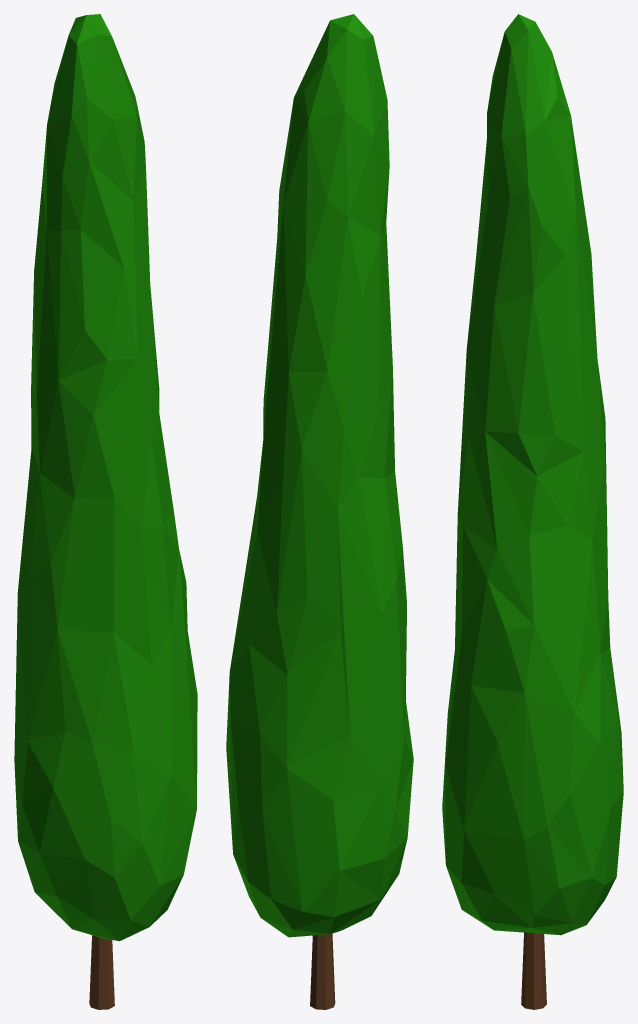
File: cypressTreeE.fbx
3 renders of one model, left to right at view 1: azimuth 30°, elevation 25°; view 2: azimuth 150°, elevation 25°; view 3: azimuth 270°, elevation 25°, orthographic. The views are drawn at different scales.
Parts seen in each view (by area): view 1: cypressTreeE_geo; view 2: cypressTreeE_geo; view 3: cypressTreeE_geo.
Boxes of the visible parts, x1=… form: cypressTreeE_geo: x1=14, y1=14, x2=197, y2=1009; cypressTreeE_geo: x1=226, y1=14, x2=413, y2=1009; cypressTreeE_geo: x1=442, y1=14, x2=623, y2=1009.
Size of the model in its own units: 208 by 1221 by 205.
